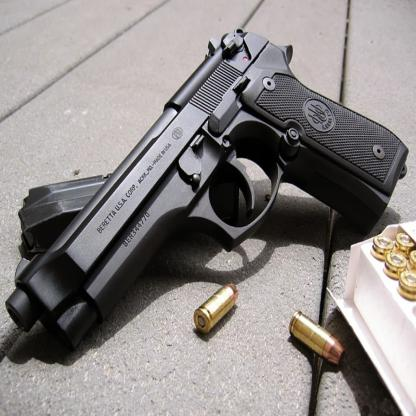handgun: (9, 28, 408, 350)
